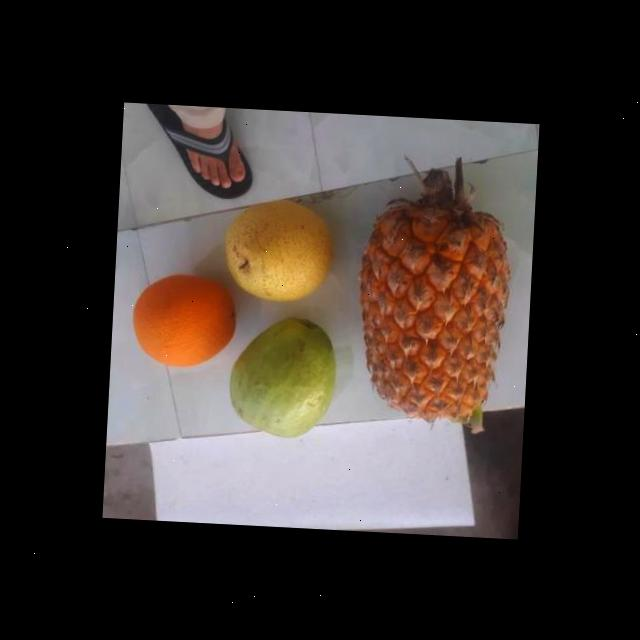guava: (228, 314, 340, 438)
orange: (125, 270, 239, 368)
pear: (217, 196, 340, 304)
pineapple: (359, 198, 513, 420)
